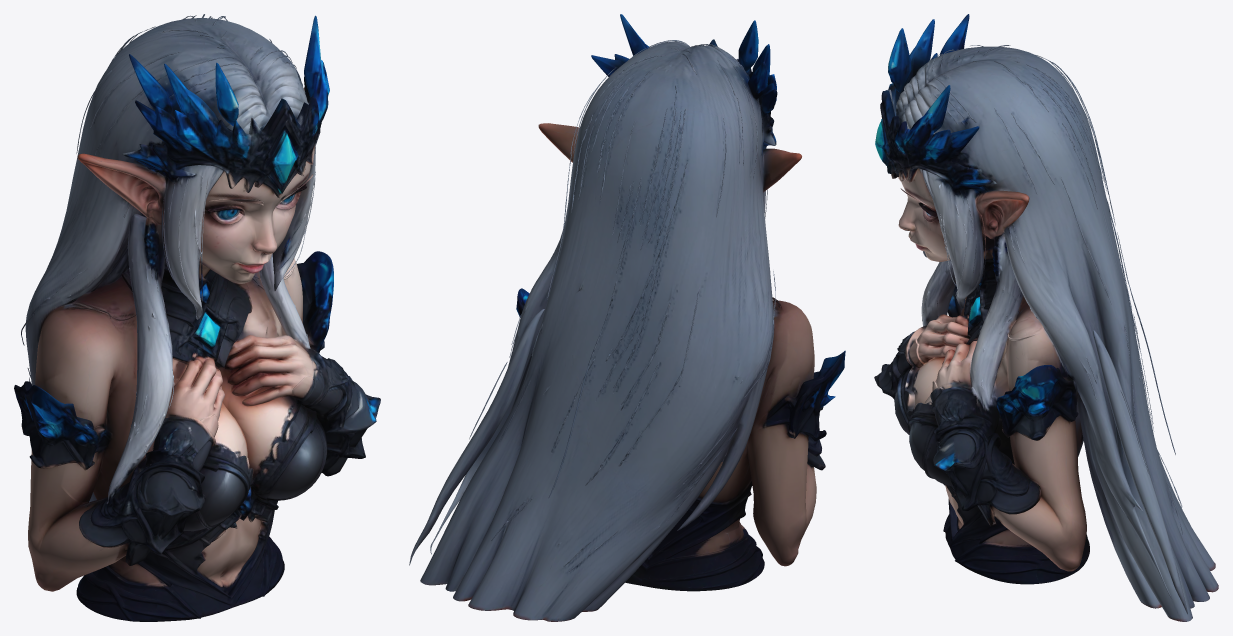
3 renders of one model, left to right at view 1: azimuth 30°, elevation 25°; view 2: azimuth 150°, elevation 25°; view 3: azimuth 270°, elevation 25°, orthographic. The views are drawn at different scales.
Parts seen in each view (by area): view 1: node_0; view 2: node_0; view 3: node_0.
Boxes of the visible parts, box(x1,y1,x2,y2) form: node_0: box(14, 14, 380, 621); node_0: box(409, 14, 845, 621); node_0: box(874, 14, 1218, 621).
Size of the model in its own units: 0.6337 by 0.9344 by 0.5825.
Materials: 1 (1 with a texture image).
